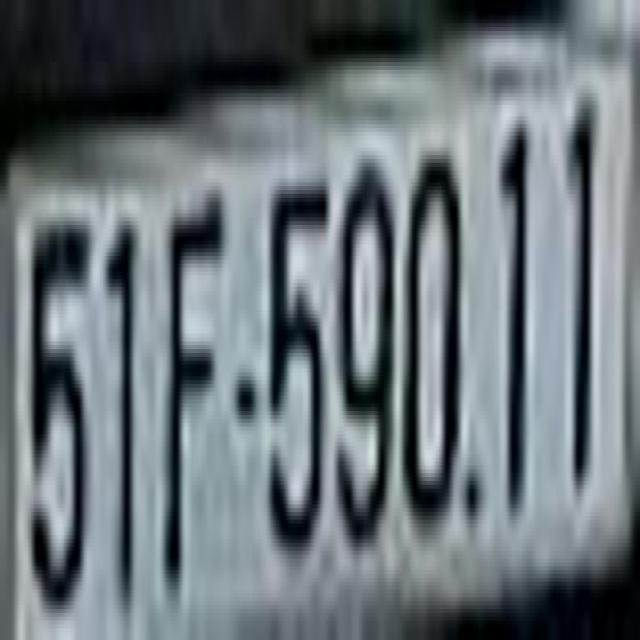0: (406, 148, 460, 540)
1: (497, 109, 535, 504), (102, 206, 141, 582), (568, 108, 596, 500)
5: (30, 229, 87, 586), (274, 171, 327, 543)
9: (342, 159, 390, 555)
F: (166, 163, 215, 613)
